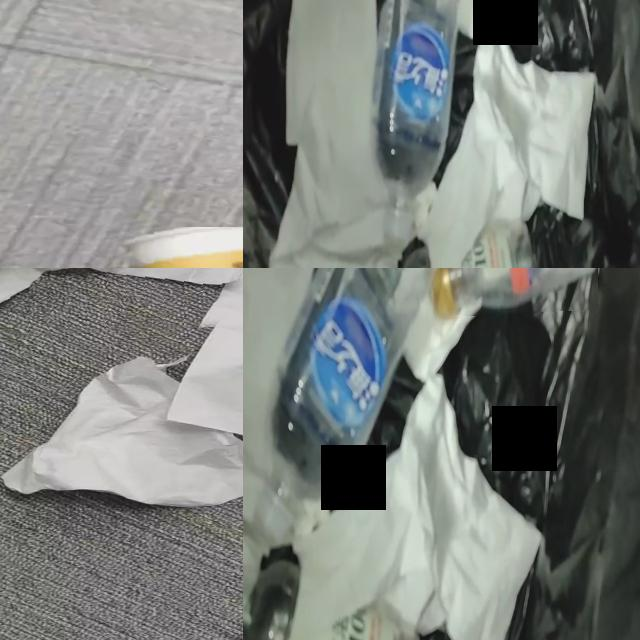bottle: (256, 268, 435, 543), (371, 0, 458, 249), (243, 551, 419, 640), (433, 268, 595, 318)
dixie_cup: (126, 227, 243, 268)
paper: (292, 374, 542, 640), (375, 20, 594, 268), (4, 358, 243, 507), (270, 0, 391, 268), (388, 268, 482, 382), (167, 299, 243, 436), (437, 0, 490, 39), (243, 530, 268, 600), (294, 498, 330, 539)
